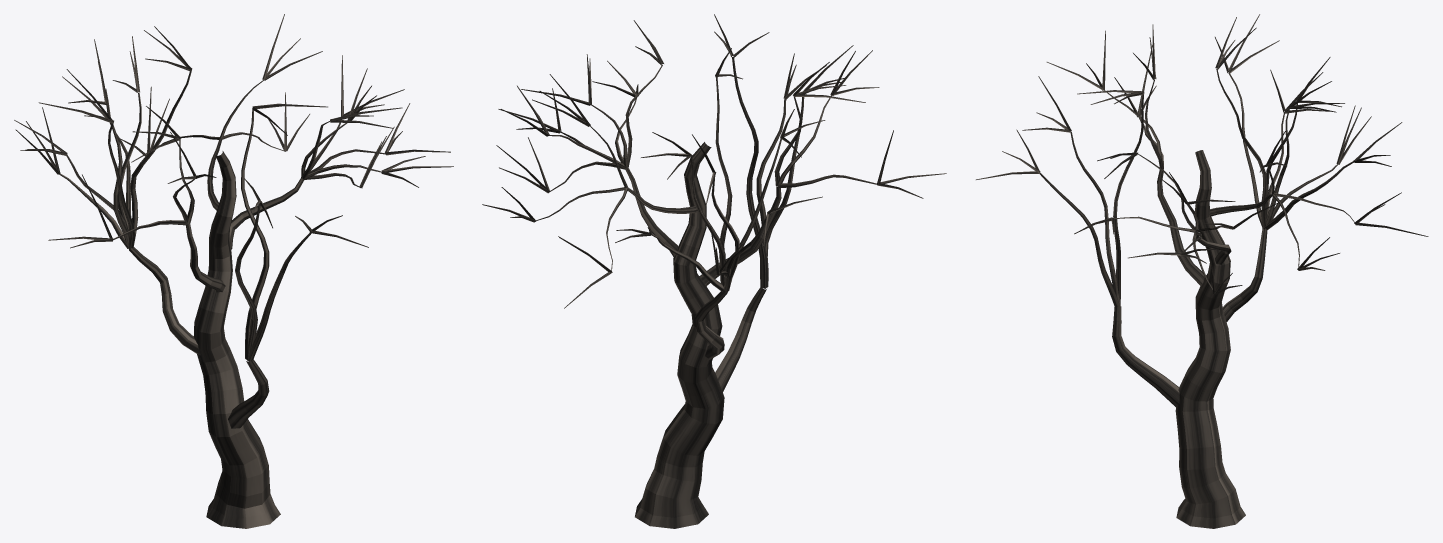
The model's file is pr_deadtree.glb.
3 views of the same model, side by side, from view 1: azimuth 30°, elevation 25°; view 2: azimuth 150°, elevation 25°; view 3: azimuth 270°, elevation 25° (orthographic). The views are drawn at different scales.
Parts seen in each view (by area): view 1: pr_deadtree; view 2: pr_deadtree; view 3: pr_deadtree.
Boxes of the visible parts, x1,y1,x2,y2 form: pr_deadtree: (14,14,453,528); pr_deadtree: (482,14,946,528); pr_deadtree: (976,14,1428,528).
Bounding box in the file's own units: 8.36 × 10 × 8.87.
1 material, 1 textured.
